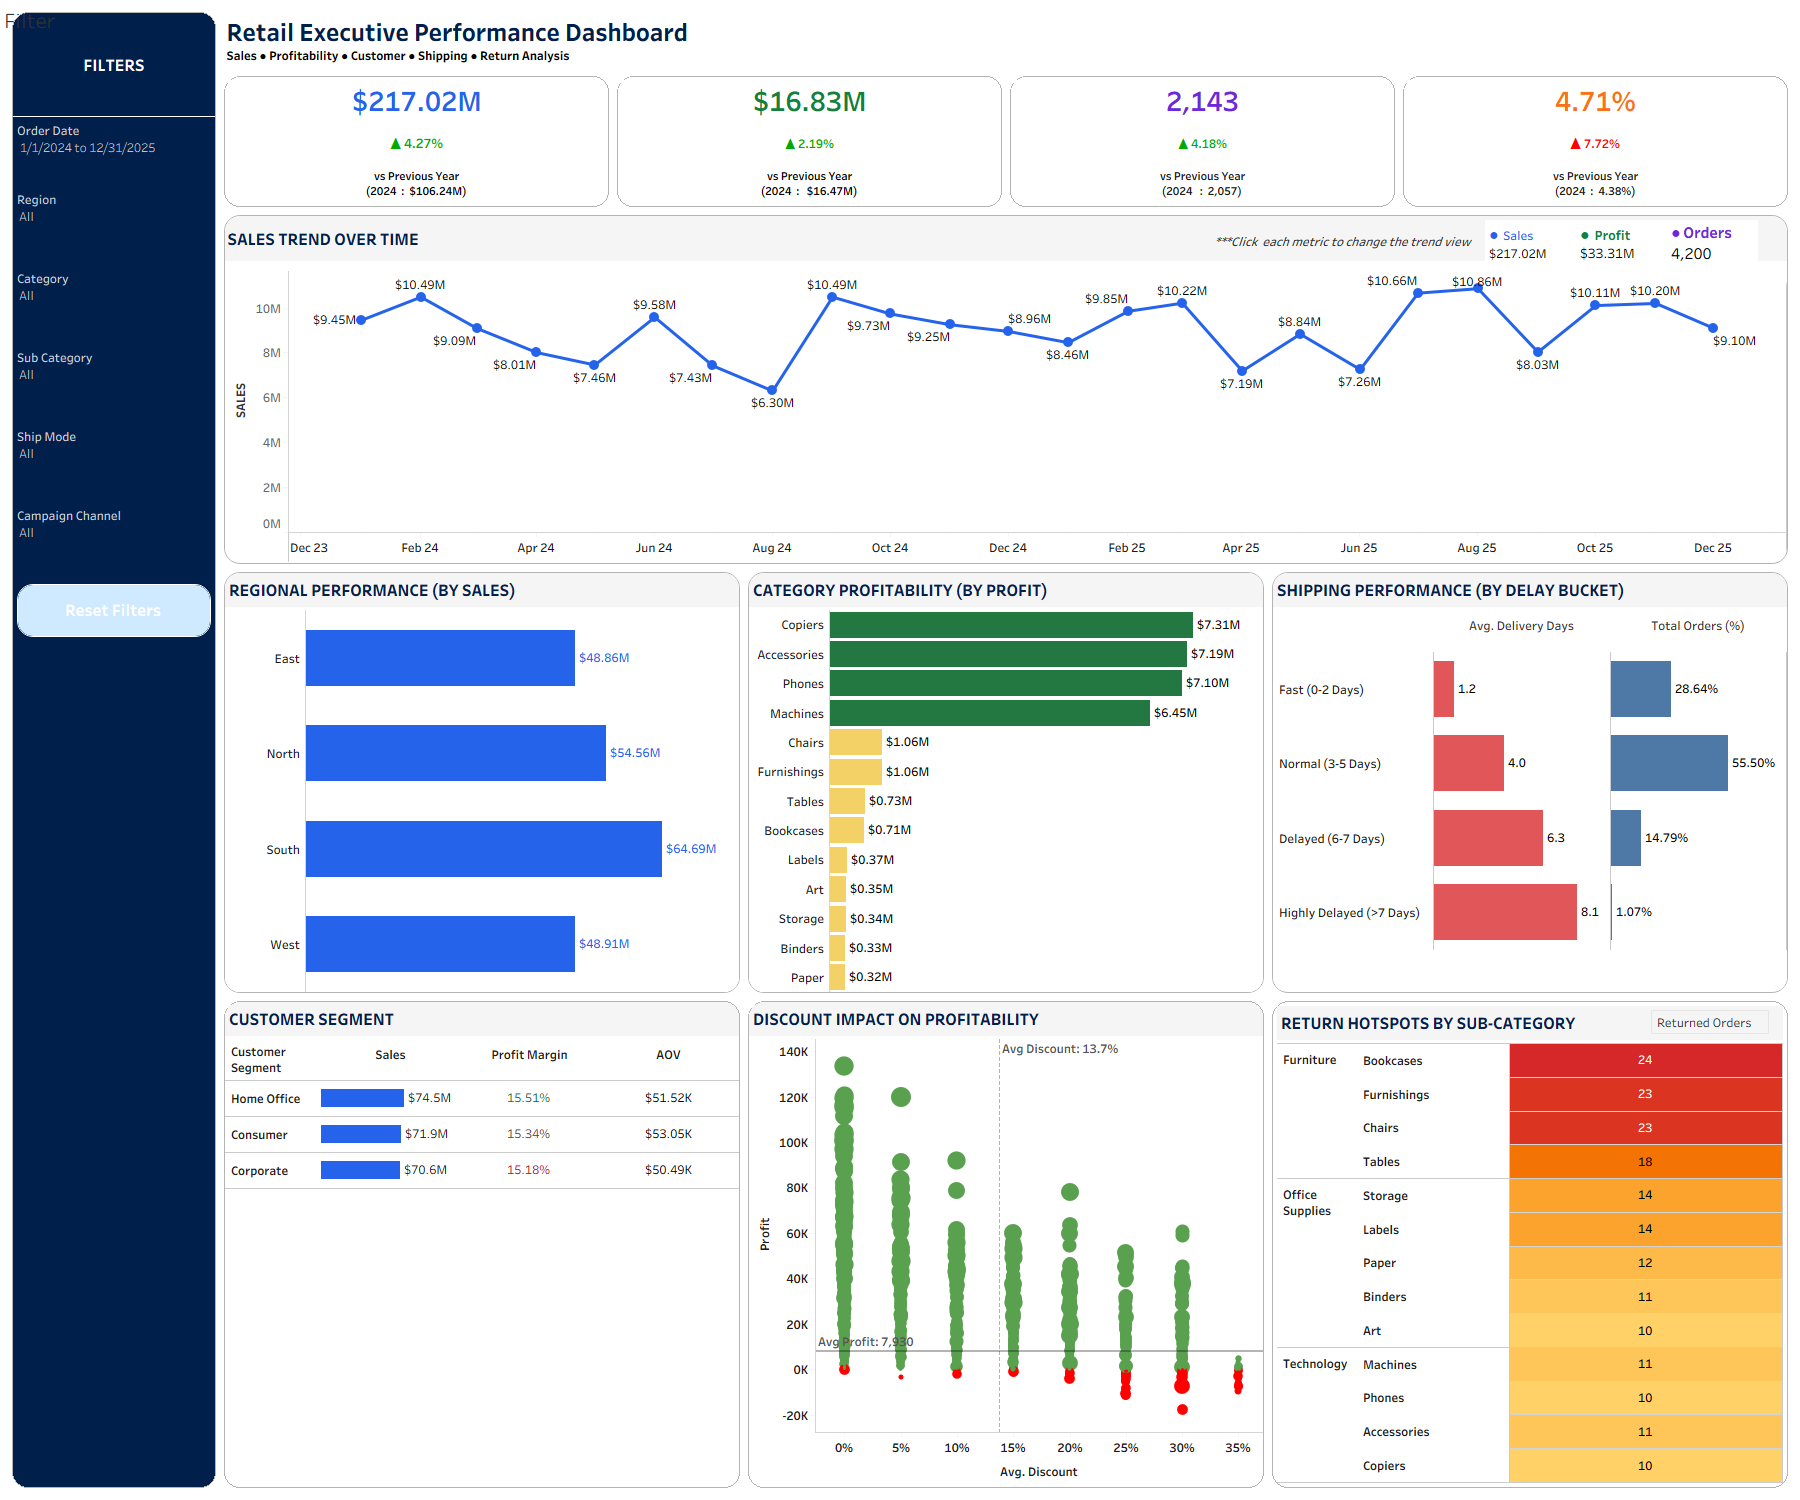

Layout of this report page (visuals, bound fields, positions):
{"tool":"tableau","page":{"name":"Retail Executive Performance Dashboard","canvas":[1800,1500],"ordinal":0},"visuals":[{"type":"worksheet","title":"Filter","mark":"Automatic","box":[0,0,1,1]},{"type":"text","box":[219.6,8,1572.4,64]},{"type":"text","box":[13,13,201.6,103]},{"type":"worksheet","title":"KPI - Sales","mark":"Square","box":[220,72,393,139]},{"type":"worksheet","title":"KPI - Profit","mark":"Square","box":[613,72,393,139]},{"type":"worksheet","title":"KPI - Orders","mark":"Square","box":[1006,72,393,139]},{"type":"worksheet","title":"KPI - Return Rate","mark":"Square","box":[1399,72,393,139]},{"type":"blank","box":[13,116,201.6,1]},{"type":"filter","title":"Filter","param":"[federated.1k62u9d15if11v11mv8w31dpu8bw].[none:order_date:qk]","box":[13,117,201.6,69]},{"type":"filter","title":"Filter","param":"[federated.1k62u9d15if11v11mv8w31dpu8bw].[none:region:nk]","box":[13,186,202,79]},{"type":"text","box":[224.6,216,1562.4,45]},{"type":"worksheet","title":"Sales","mark":"Automatic","box":[1485,220,91,46]},{"type":"worksheet","title":"Profit","mark":"Automatic","box":[1576,220,91,46]},{"type":"worksheet","title":"Orders","mark":"Automatic","box":[1667,220,90,46]},{"type":"text","box":[1212,226,263,30]},{"type":"worksheet","title":"Trend Over time Orders","mark":"Automatic","rows":["Calculation_0691335389483042","Calculation_0691335389483042"],"cols":["order_date"],"box":[224.6,261,1562.4,302]},{"type":"worksheet","title":"Trend Over time","mark":"Automatic","rows":["Calculation_0691335389483042","Calculation_0691335389483042"],"cols":["order_date"],"box":[224.6,261,1562.4,302]},{"type":"filter","title":"Filter","param":"[federated.1k62u9d15if11v11mv8w31dpu8bw].[none:category:nk]","box":[13,265,202,79]},{"type":"filter","title":"Filter","param":"[federated.1k62u9d15if11v11mv8w31dpu8bw].[none:sub_category:nk]","box":[13,344,202,79]},{"type":"filter","title":"Filter","param":"[federated.1k62u9d15if11v11mv8w31dpu8bw].[none:ship_mode:nk]","box":[13,423,202,79]},{"type":"filter","title":"Filter","param":"[federated.1k62u9d15if11v11mv8w31dpu8bw].[none:campaign_channel:nk]","box":[13,502,202,78]},{"type":"worksheet","title":"Regional Performance","mark":"Bar","rows":["region"],"cols":["sales"],"box":[220,568,524,429]},{"type":"worksheet","title":"Category Profitability","mark":"Bar","rows":["sub_category"],"cols":["profit"],"box":[744,568,524,429]},{"type":"worksheet","title":"Shipping Delay","mark":"Automatic","rows":["Calculation_0691334957989892"],"cols":["delivery_days","Calculation_0691335421763621","Calculation_0691334958067717","Calculation_0691335421763621"],"box":[1268,568,524,429]},{"type":"worksheet","title":"RESET","mark":"Automatic","box":[13,580,201.6,61]},{"type":"blank","box":[13,641,201.6,846]},{"type":"worksheet","title":"Customer Segment","mark":"Automatic","rows":["customer_segment"],"cols":["sales","Calculation_0691335410819108","Calculation_0691335410819108","Calculation_0691335410819108","Calculation_0691335410819108","Calculation_0691335410819108"],"box":[219.6,997,524.1,495]},{"type":"worksheet","title":"DISCOUNT vs PROFIT - Cust","mark":"Circle","rows":["profit"],"cols":["discount"],"box":[744,997,524,495]},{"type":"worksheet","title":"Return Analysis Orders","mark":"Square","rows":["category","sub_category"],"box":[1273,1002,514,484.9]},{"type":"worksheet","title":"Return Analysis Orders  $","mark":"Square","rows":["category","sub_category"],"box":[1273,1002,514,484.9]},{"type":"worksheet","title":"Return Analysis %","mark":"Square","rows":["category","sub_category"],"box":[1273,1002,514,484.9]},{"type":"parameter","param":"[Parameters].[Parameter 3]","box":[1651,1010,118,24]}]}

Visuals, with their boxes in screenshot pixels (x1, y1, x2, y2), scaled from the page's 1800x1500 canvas onto the 1800x1500 screenshot:
"Filter" worksheet: 0 0 1 1
text: 220 8 1792 72
text: 13 13 215 116
"KPI - Sales" worksheet (Square marks): 220 72 613 211
"KPI - Profit" worksheet (Square marks): 613 72 1006 211
"KPI - Orders" worksheet (Square marks): 1006 72 1399 211
"KPI - Return Rate" worksheet (Square marks): 1399 72 1792 211
blank: 13 116 215 117
"Filter" filter: 13 117 215 186
"Filter" filter: 13 186 215 265
text: 225 216 1787 261
"Sales" worksheet: 1485 220 1576 266
"Profit" worksheet: 1576 220 1667 266
"Orders" worksheet: 1667 220 1757 266
text: 1212 226 1475 256
"Trend Over time Orders" worksheet: 225 261 1787 563
"Trend Over time" worksheet: 225 261 1787 563
"Filter" filter: 13 265 215 344
"Filter" filter: 13 344 215 423
"Filter" filter: 13 423 215 502
"Filter" filter: 13 502 215 580
"Regional Performance" worksheet (Bar marks): 220 568 744 997
"Category Profitability" worksheet (Bar marks): 744 568 1268 997
"Shipping Delay" worksheet: 1268 568 1792 997
"RESET" worksheet: 13 580 215 641
blank: 13 641 215 1487
"Customer Segment" worksheet: 220 997 744 1492
"DISCOUNT vs PROFIT - Cust" worksheet (Circle marks): 744 997 1268 1492
"Return Analysis Orders" worksheet (Square marks): 1273 1002 1787 1487
"Return Analysis Orders  $" worksheet (Square marks): 1273 1002 1787 1487
"Return Analysis %" worksheet (Square marks): 1273 1002 1787 1487
parameter: 1651 1010 1769 1034
